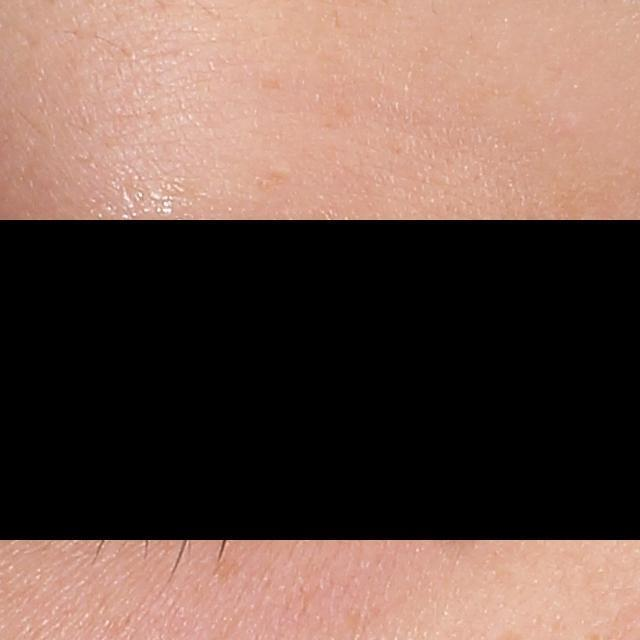melasma: (427, 504, 488, 560), (210, 554, 242, 585)
